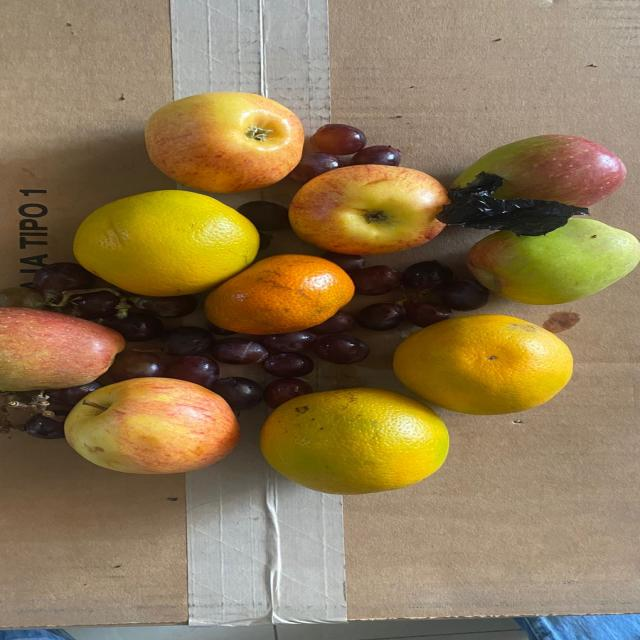bolsa_negra: (436, 172, 583, 242)
